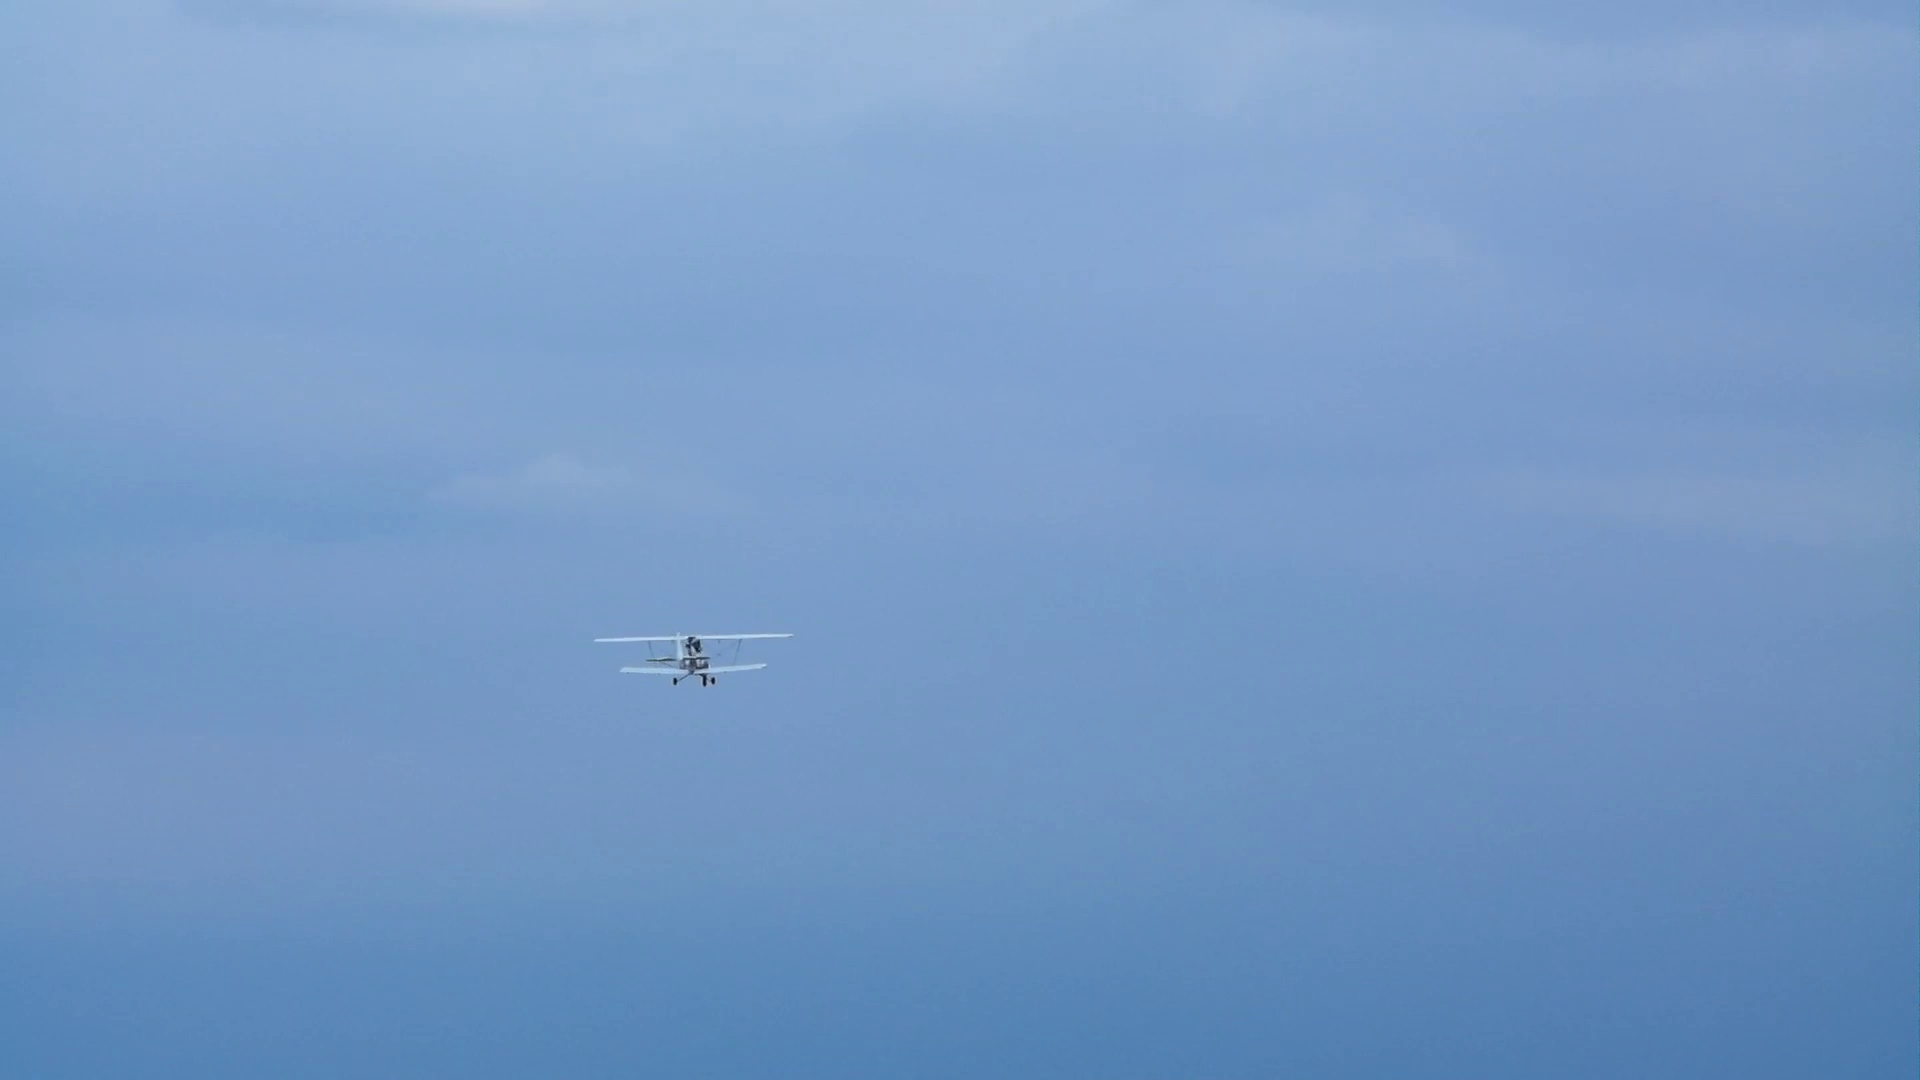plane: (595, 632, 796, 688)
